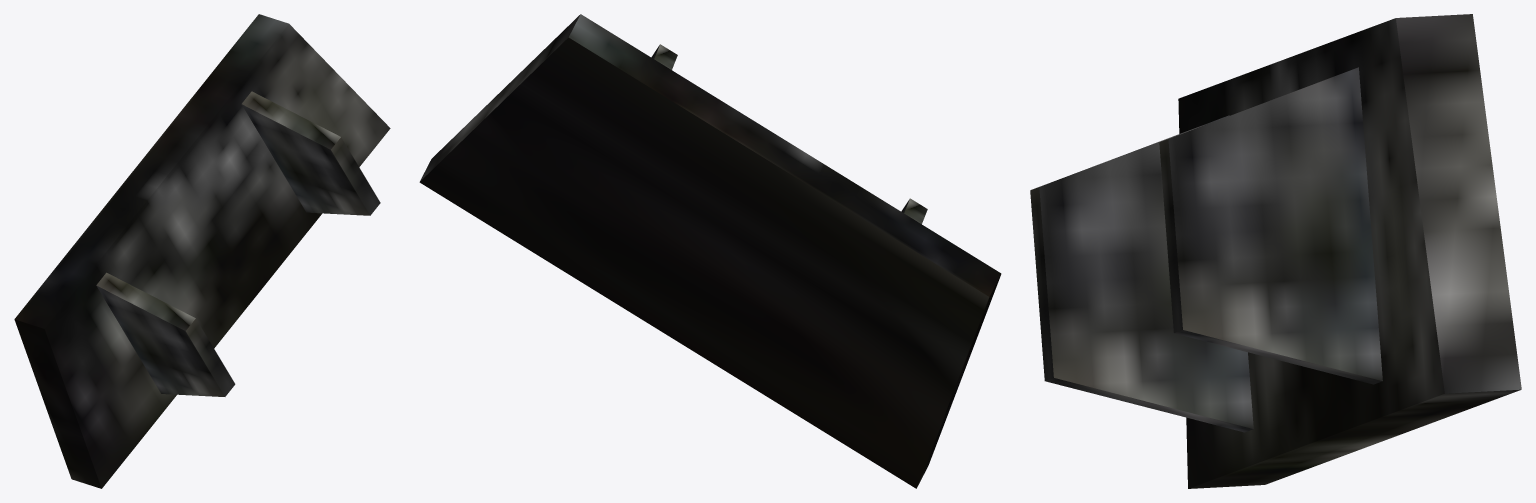
File: prop_german_panzer_part_3.glb
3 renders of one model, left to right at view 1: azimuth 30°, elevation 25°; view 2: azimuth 150°, elevation 25°; view 3: azimuth 270°, elevation 25°, orthographic. The views are drawn at different scales.
Size of the model in its own units: 14.69 by 12.15 by 7.73.
1 material, 1 textured.
